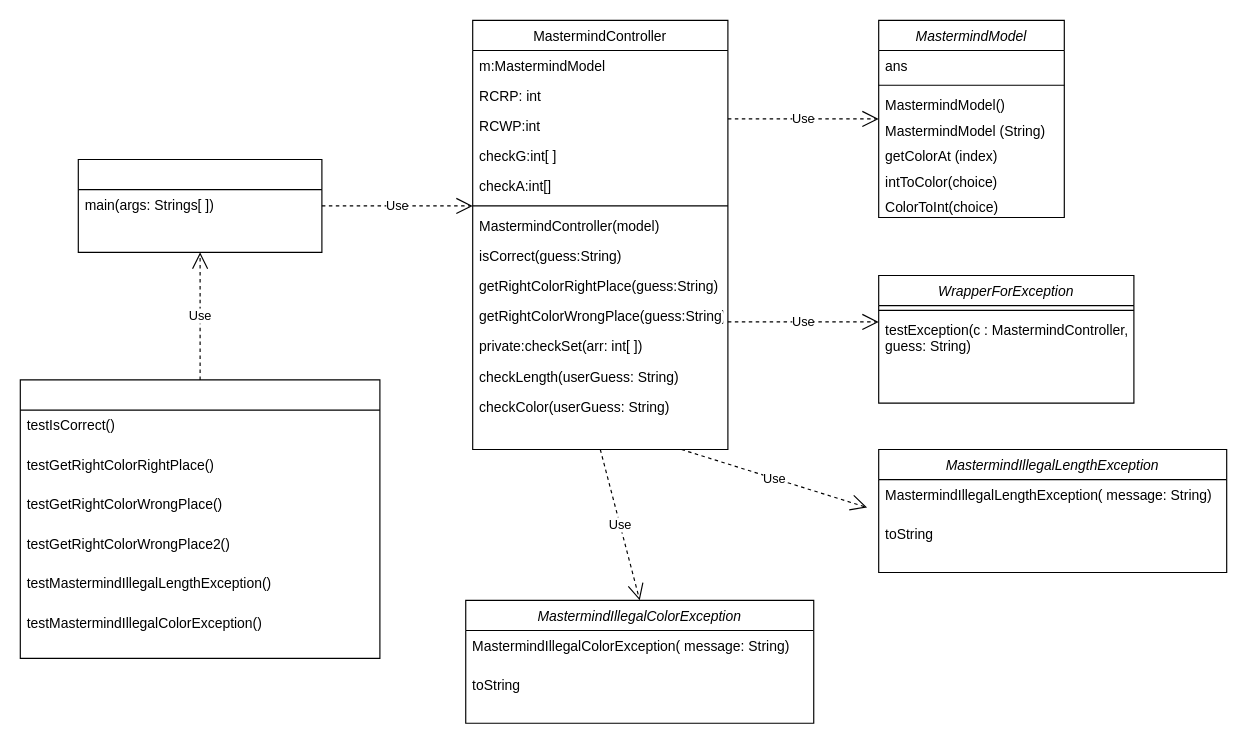
Image size: 1247x744. Some labels were removed from this diagram. Each missing label, with the box of its shape:
Mastermind: (77, 158, 322, 252)
MastermindTest: (19, 379, 380, 658)
